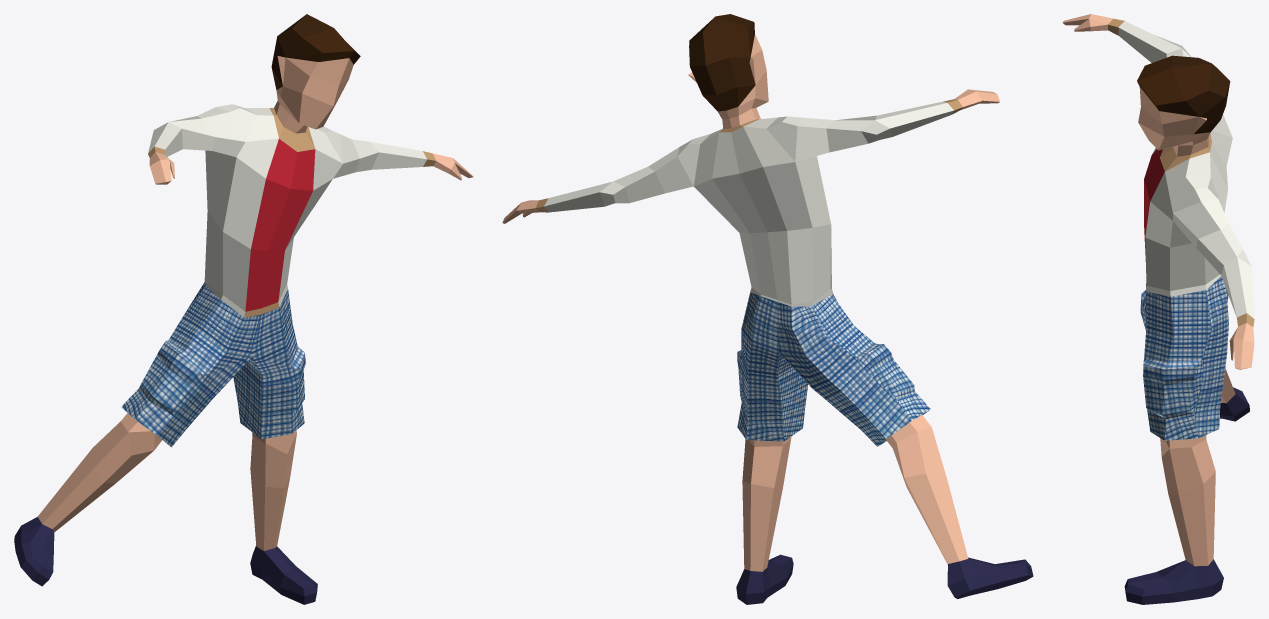
File: SpringBoy.005.glb
3 renders of one model, left to right at view 1: azimuth 30°, elevation 25°; view 2: azimuth 150°, elevation 25°; view 3: azimuth 270°, elevation 25°, orthographic. The views are drawn at different scales.
Parts seen in each view (by area): view 1: SpringBoy.005; view 2: SpringBoy.005; view 3: SpringBoy.005.
Boxes of the visible parts, x1,y1,x2,y2 form: SpringBoy.005: (14,14,473,604); SpringBoy.005: (502,14,1033,604); SpringBoy.005: (1062,14,1254,604).
Size of the model in its own units: 1.1 by 1.2 by 0.3771.
Materials: 1 (1 with a texture image).
